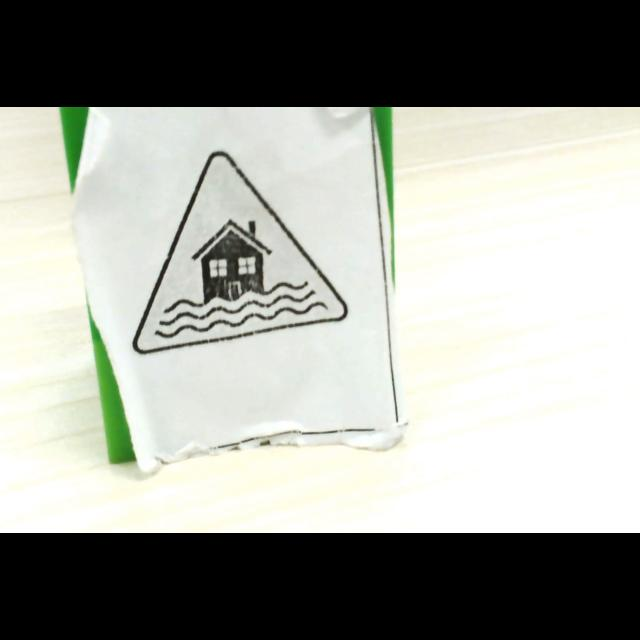Tsunami: (132, 152, 347, 355)
